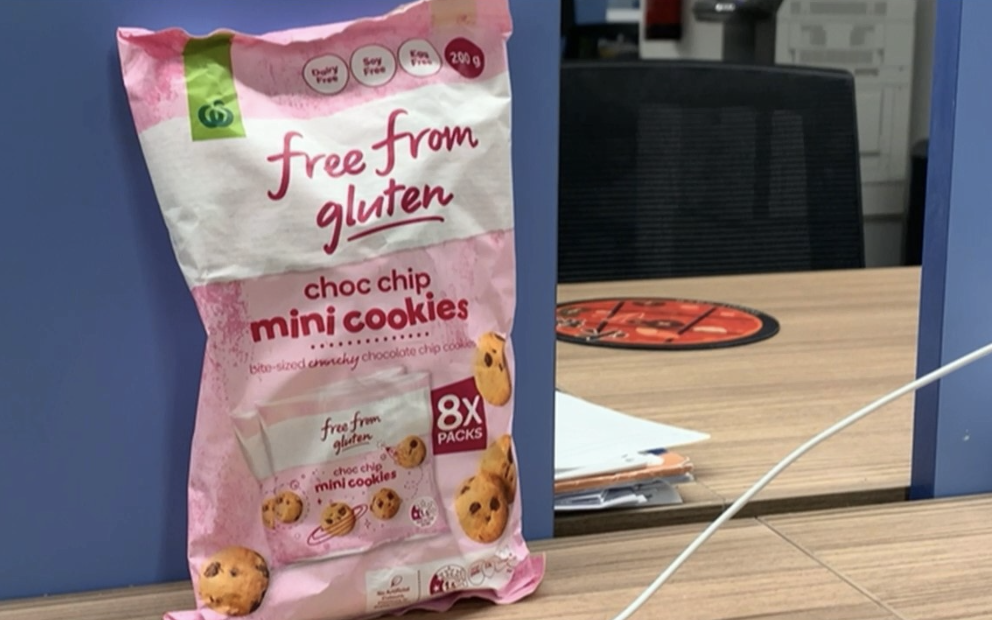cookies_150g: (204, 64, 510, 558)
